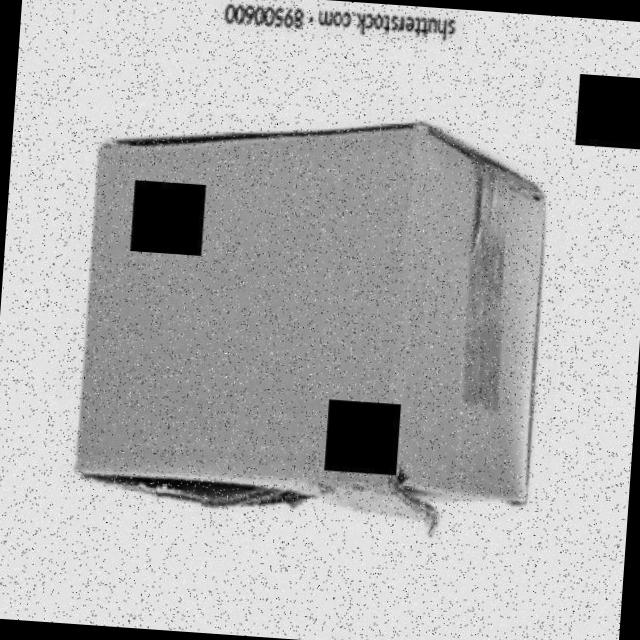box: (58, 97, 575, 552)
